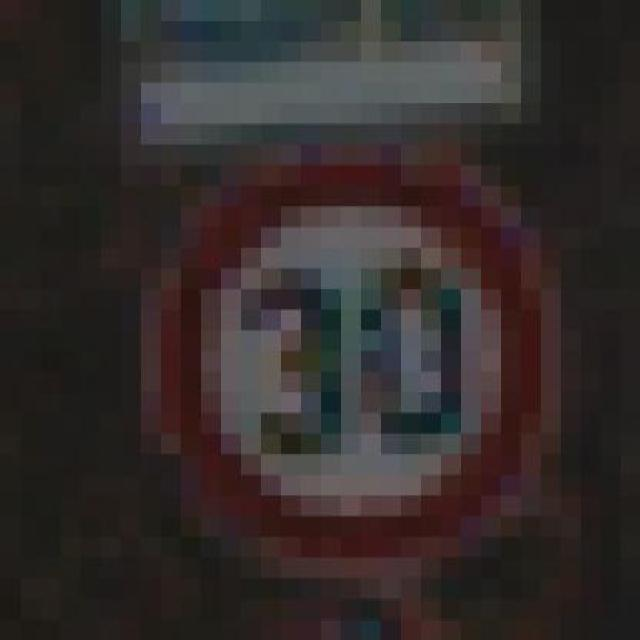Speed Limit 30 KMPh: (60, 144, 620, 578)
